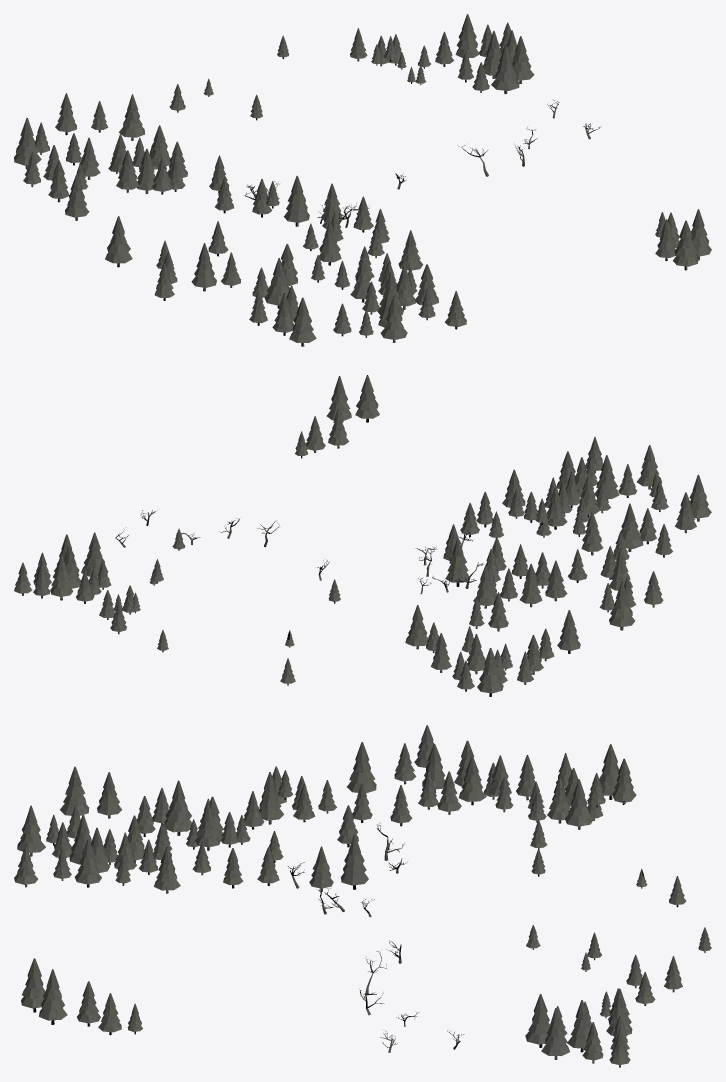
Rendered from forest.glb.
The picture shows the model from 3 angles, top to bottom: view 1: azimuth 30°, elevation 25°; view 2: azimuth 150°, elevation 25°; view 3: azimuth 270°, elevation 25°; orthographic projection. The views are drawn at different scales.
Visible parts, largest first — view 1: main; view 2: main; view 3: main.
Boxes of the visible parts, left/top/right/bottom form: main: left=14, top=14, right=711, bottom=346; main: left=14, top=375, right=711, bottom=696; main: left=14, top=725, right=711, bottom=1067.
Size of the model in its own units: 193 by 33.15 by 203.
Materials: 1 (1 with a texture image).
